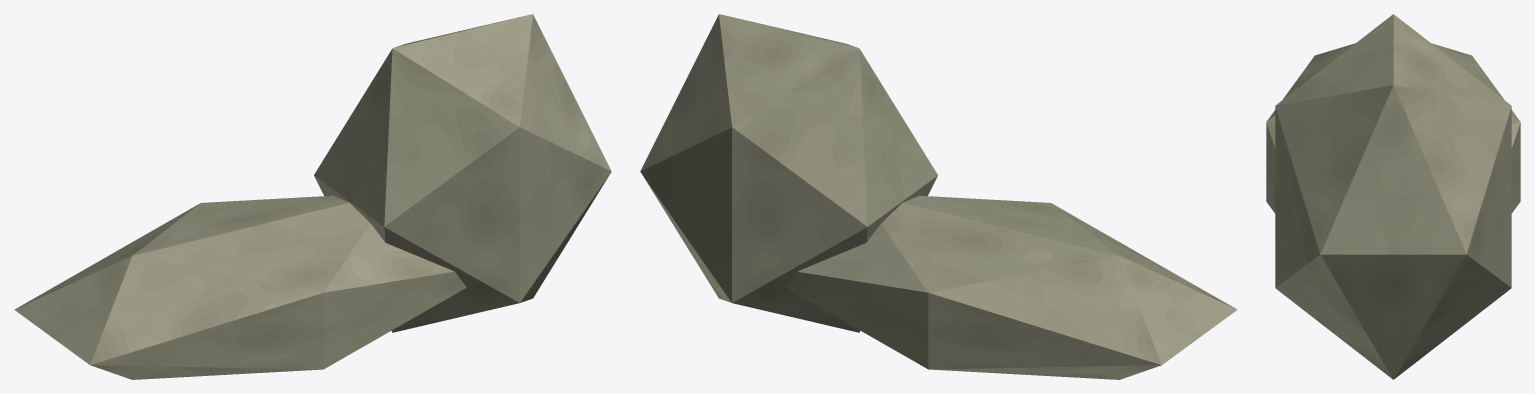
The model's file is pedra-dorso-v02.gltf.
3 views of the same model, side by side, from view 1: azimuth 30°, elevation 25°; view 2: azimuth 150°, elevation 25°; view 3: azimuth 270°, elevation 25° (orthographic). The views are drawn at different scales.
Parts seen in each view (by area): view 1: forma; view 2: forma; view 3: forma.
Part boxes in pixels (x1,y1,x2,y2): forma: [14, 14, 611, 379]; forma: [640, 14, 1237, 379]; forma: [1266, 14, 1520, 379].
Bounding box in the file's own units: 1.8 × 0.9357 × 0.7316.
Materials: 1 (1 with a texture image).
